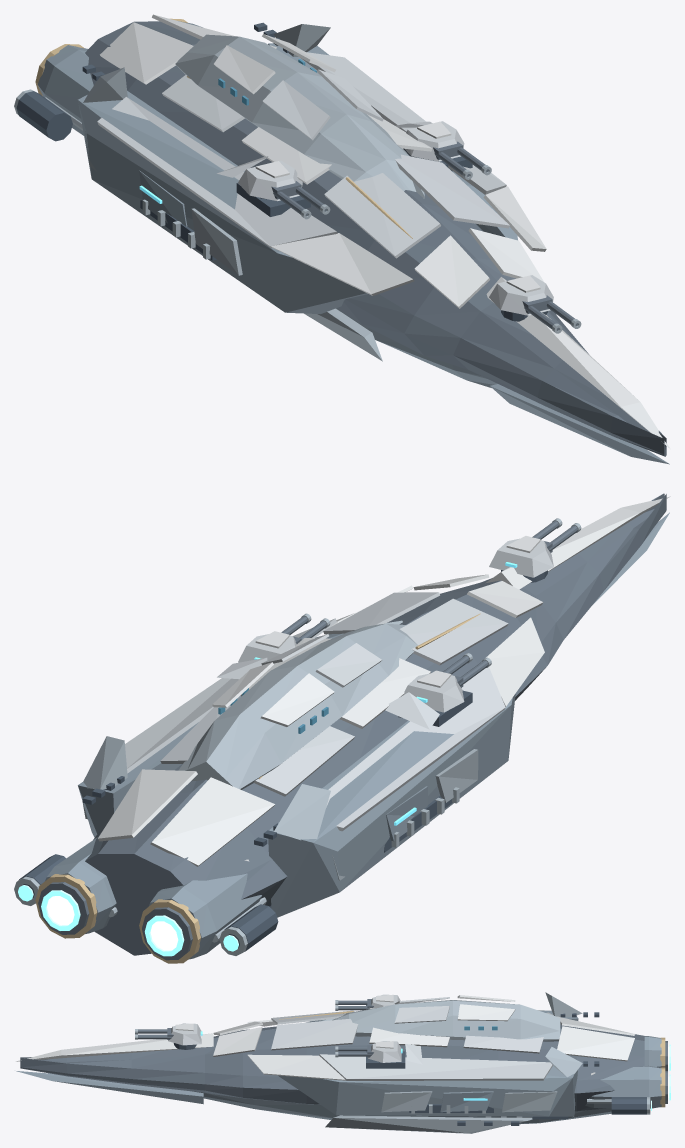
The model's file is NX02_Destroyer_V4_Broader.glb.
3 views of the same model, one above another, from view 1: azimuth 30°, elevation 25°; view 2: azimuth 150°, elevation 25°; view 3: azimuth 270°, elevation 25° (orthographic). The views are drawn at different scales.
Visible parts, largest first — view 1: NX02_Destroyer_V4_dark, NX02_Destroyer_V4_armor, NX02_Destroyer_V4_shadow, NX02_Destroyer_V4_white, NX02_Destroyer_V4_steel, NX02_Destroyer_V4_carbon; view 2: NX02_Destroyer_V4_dark, NX02_Destroyer_V4_shadow, NX02_Destroyer_V4_armor, NX02_Destroyer_V4_white, NX02_Destroyer_V4_steel, NX02_Destroyer_V4_carbon, NX02_Destroyer_V4_gold, NX02_Destroyer_V4_cyan, NX02_Destroyer_V4_plasma; view 3: NX02_Destroyer_V4_dark, NX02_Destroyer_V4_shadow, NX02_Destroyer_V4_steel, NX02_Destroyer_V4_armor, NX02_Destroyer_V4_white, NX02_Destroyer_V4_carbon, NX02_Destroyer_V4_gold.
Boxes of the visible parts, <box> form: NX02_Destroyer_V4_dark: <box>78,21,666,456</box>; NX02_Destroyer_V4_armor: <box>97,52,553,315</box>; NX02_Destroyer_V4_shadow: <box>37,21,669,464</box>; NX02_Destroyer_V4_white: <box>100,14,670,449</box>; NX02_Destroyer_V4_steel: <box>14,24,581,361</box>; NX02_Destroyer_V4_carbon: <box>16,22,547,321</box>; NX02_Destroyer_V4_dark: <box>38,493,666,960</box>; NX02_Destroyer_V4_shadow: <box>45,512,669,959</box>; NX02_Destroyer_V4_armor: <box>125,538,553,831</box>; NX02_Destroyer_V4_white: <box>98,496,670,866</box>; NX02_Destroyer_V4_steel: <box>14,518,581,955</box>; NX02_Destroyer_V4_carbon: <box>19,570,547,951</box>; NX02_Destroyer_V4_gold: <box>35,613,480,963</box>; NX02_Destroyer_V4_cyan: <box>18,885,238,956</box>; NX02_Destroyer_V4_plasma: <box>46,896,178,950</box>; NX02_Destroyer_V4_dark: <box>20,999,667,1111</box>; NX02_Destroyer_V4_shadow: <box>16,1010,661,1124</box>; NX02_Destroyer_V4_steel: <box>135,992,650,1133</box>; NX02_Destroyer_V4_armor: <box>168,994,553,1080</box>; NX02_Destroyer_V4_white: <box>15,994,634,1080</box>; NX02_Destroyer_V4_carbon: <box>173,1005,646,1125</box>; NX02_Destroyer_V4_gold: <box>279,1011,665,1107</box>.
Size of the model in its own units: 6.19 by 5.06 by 23.31.
